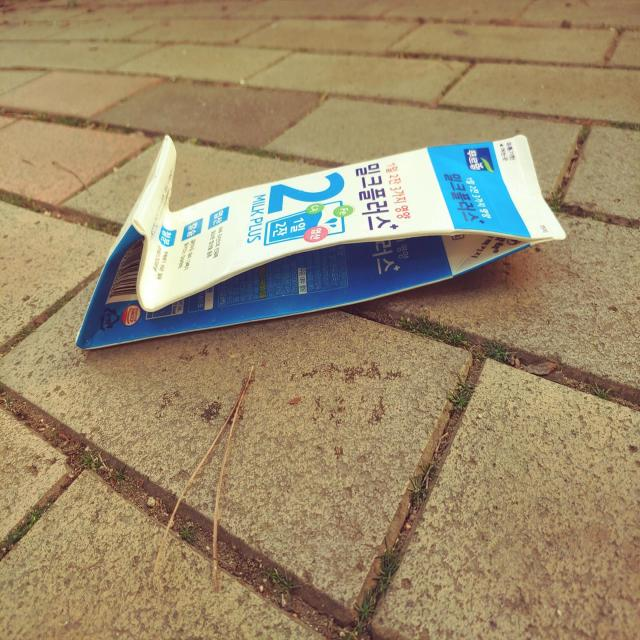paperpack: (74, 134, 566, 350)
